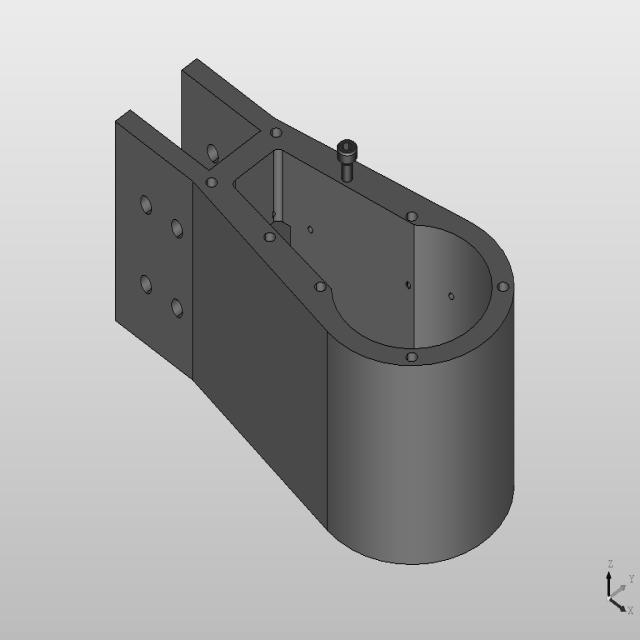screw: (333, 132, 362, 190)
